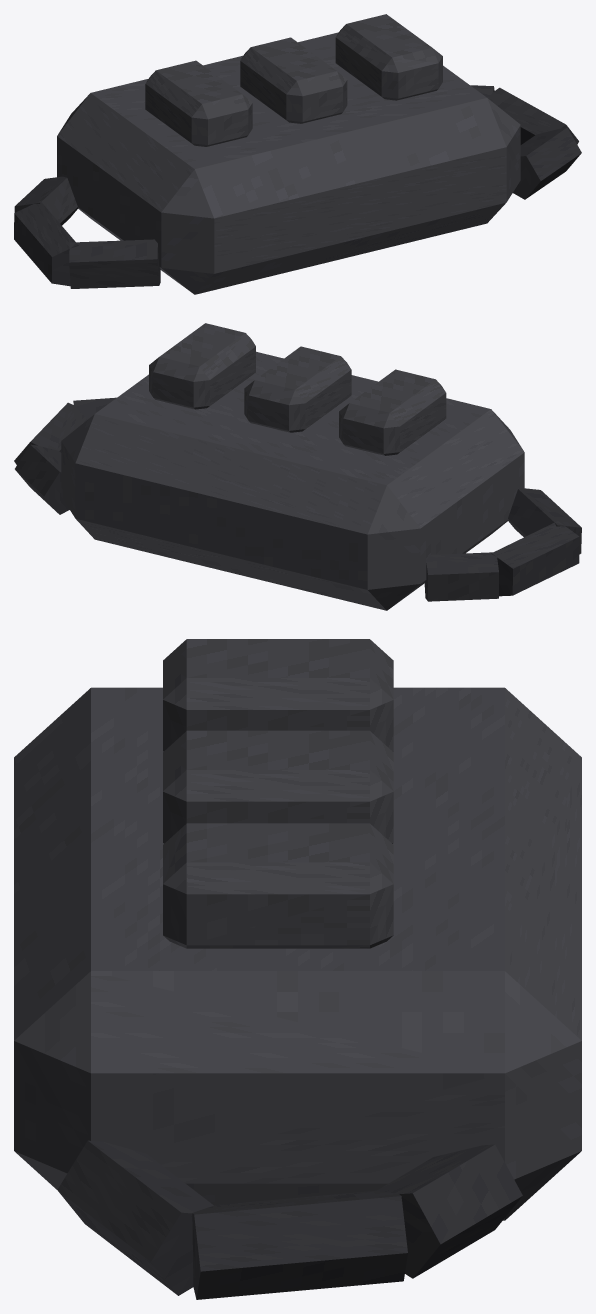
The model's file is basic_papr_belt_off.glb.
3 views of the same model, one above another, from view 1: azimuth 30°, elevation 25°; view 2: azimuth 150°, elevation 25°; view 3: azimuth 270°, elevation 25° (orthographic). The views are drawn at different scales.
Parts seen in each view (by area): view 1: block_pouch body, block_vented module (×3), block_buckled strap 2 (×2), block_buckled strap 1 (×2), block_buckled strap 0; view 2: block_pouch body, block_vented module (×3), block_buckled strap 0 (×2), block_buckled strap 1 (×2), block_buckled strap 2 (×2); view 3: block_pouch body, block_vented module (×3), block_buckled strap 1, block_buckled strap 2, block_buckled strap 0.
Boxes of the visible parts, <box> form: block_pouch body: <box>57,32,520,294</box>; block_vented module (×3): <box>145,14,442,146</box>; block_buckled strap 2 (×2): <box>69,127,581,288</box>; block_buckled strap 1 (×2): <box>14,87,578,286</box>; block_buckled strap 0: <box>14,176,78,225</box>; block_pouch body: <box>61,351,524,610</box>; block_vented module (×3): <box>149,323,446,455</box>; block_buckled strap 0 (×2): <box>15,444,498,601</box>; block_buckled strap 1 (×2): <box>14,402,579,596</box>; block_buckled strap 2 (×2): <box>73,397,581,554</box>; block_pouch body: <box>14,687,581,1220</box>; block_vented module (×3): <box>163,639,393,948</box>; block_buckled strap 1: <box>192,1190,407,1299</box>; block_buckled strap 2: <box>57,1140,213,1295</box>; block_buckled strap 0: <box>376,1144,522,1278</box>.
Bounding box in the file's own units: 0.211 × 0.0632 × 0.099.
1 material, 1 textured.
